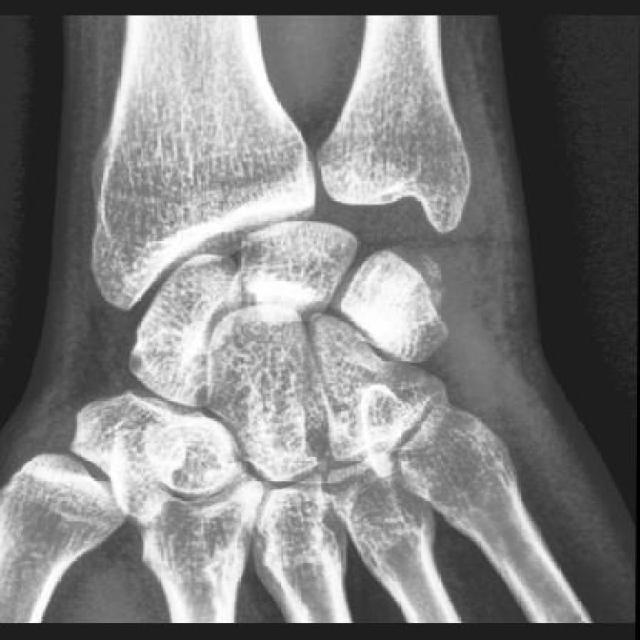Fracture: (386, 248, 448, 317)
